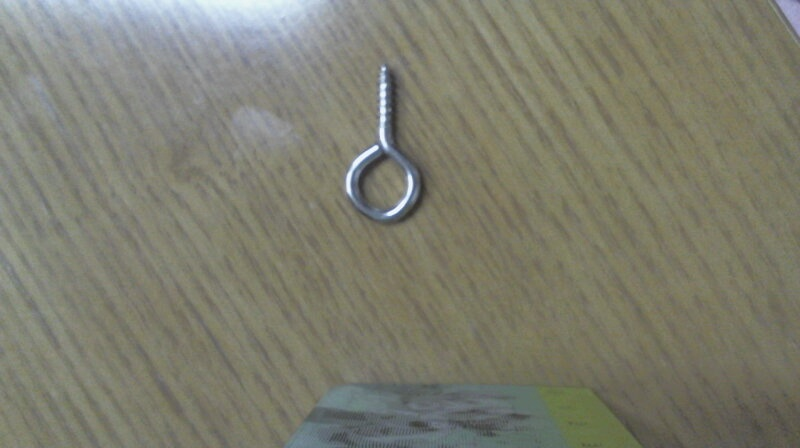O001: (338, 61, 430, 231)
